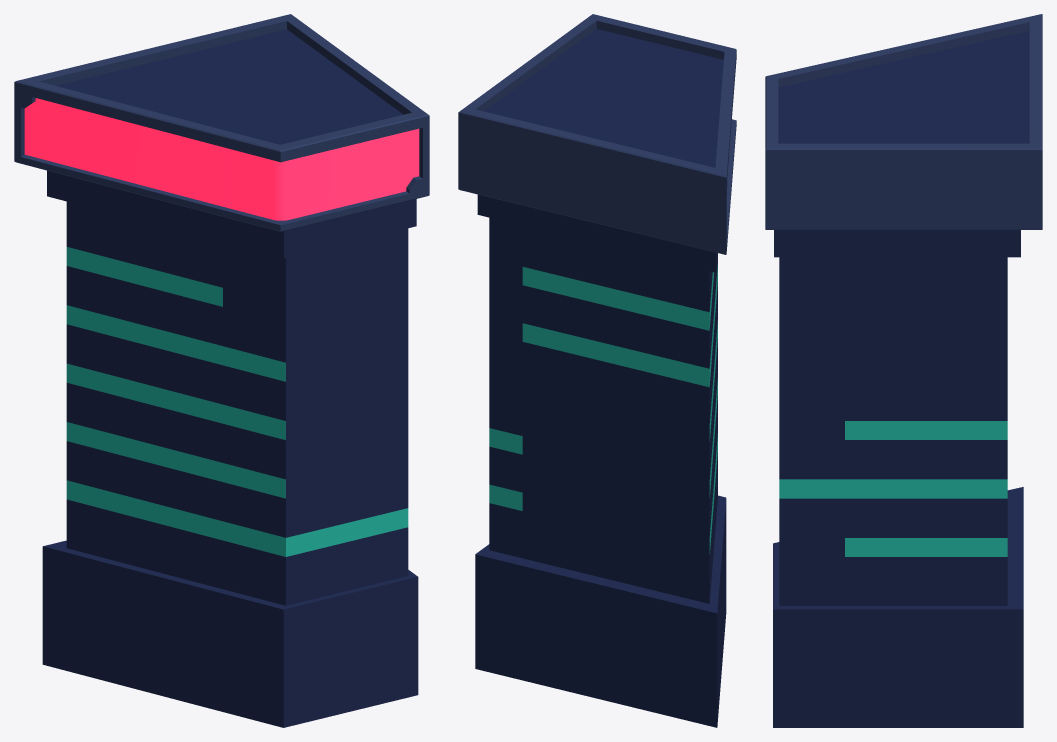
Rendered from Building3_l.fbx.
The picture shows the model from 3 angles, left to right: view 1: azimuth 30°, elevation 25°; view 2: azimuth 150°, elevation 25°; view 3: azimuth 270°, elevation 25°; orthographic projection. The views are drawn at different scales.
Visible parts, largest first — view 1: Cube.034; view 2: Cube.034; view 3: Cube.034.
Part boxes in pixels (box(x1,y1,x2,y2)): Cube.034: box(14, 14, 429, 727); Cube.034: box(458, 14, 736, 727); Cube.034: box(765, 14, 1042, 727).
Size of the model in its own units: 605 by 523 by 1212.
